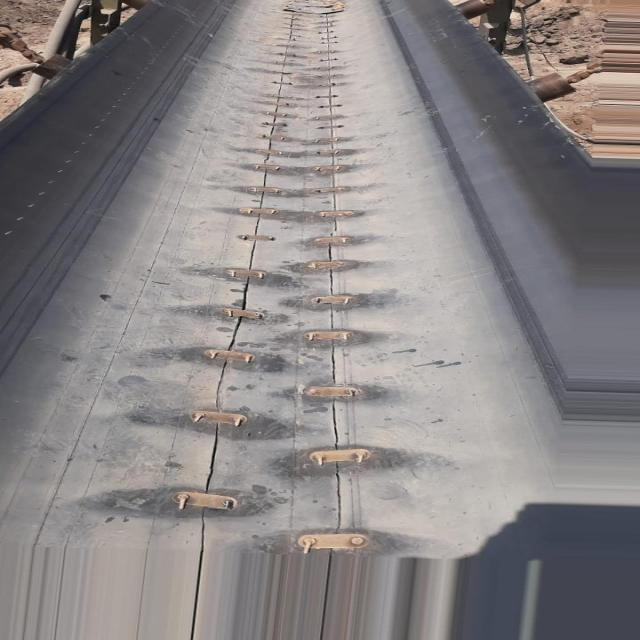Roller: (529, 64, 575, 101), (32, 58, 78, 81)
patch work: (129, 0, 401, 566)
